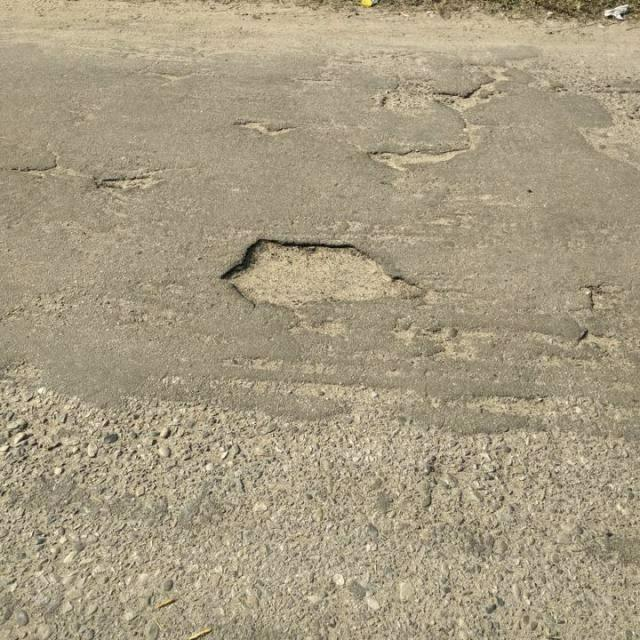Pothole: (217, 233, 423, 308), (430, 76, 507, 112), (364, 147, 474, 163)
